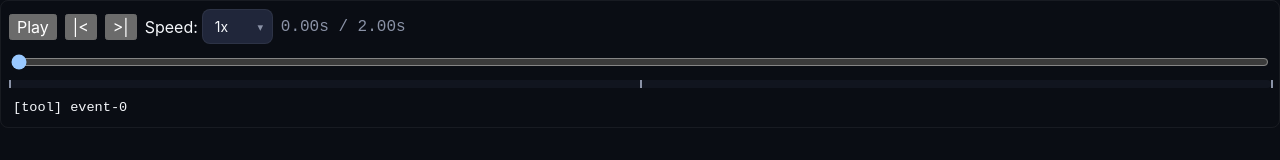
it: TimelineScrubber › toggles play/pause via the Play button
Step 1. Click the button with test id "timeline-scrubber-toggle" → (33, 26), box top-left (9, 14), bottom-right (57, 40)
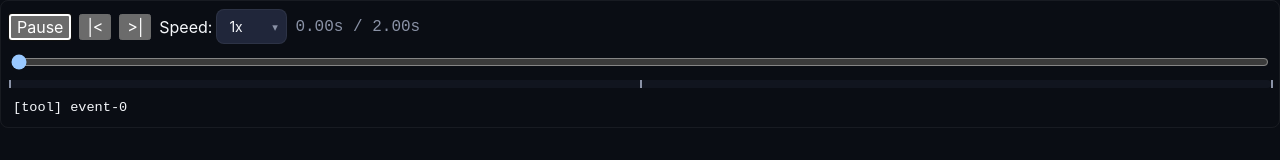
Result: the button with test id "timeline-scrubber-toggle" reads "Pause"
Step 2. Click the button with test id "timeline-scrubber-toggle" → (40, 26), box top-left (9, 14), bottom-right (71, 40)
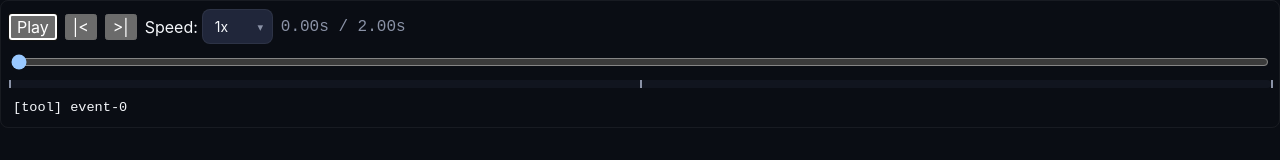
Result: the button with test id "timeline-scrubber-toggle" reads "Play" at top-left (9, 14), bottom-right (57, 40)
